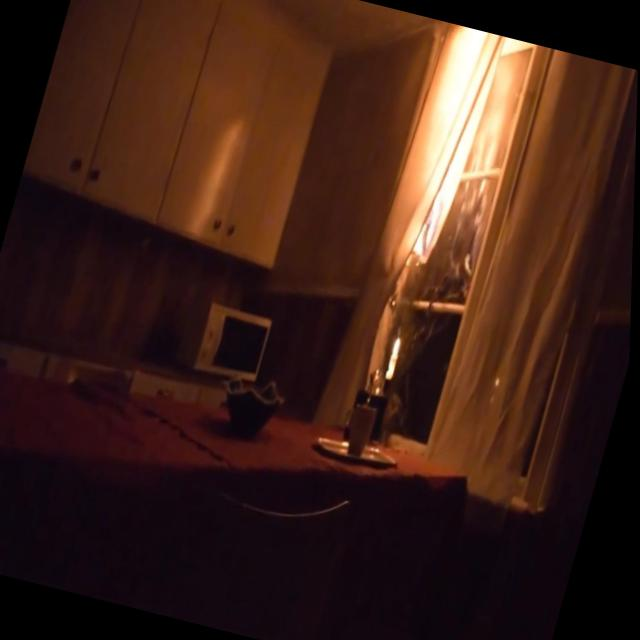fire: (381, 21, 526, 269), (391, 331, 407, 356)
